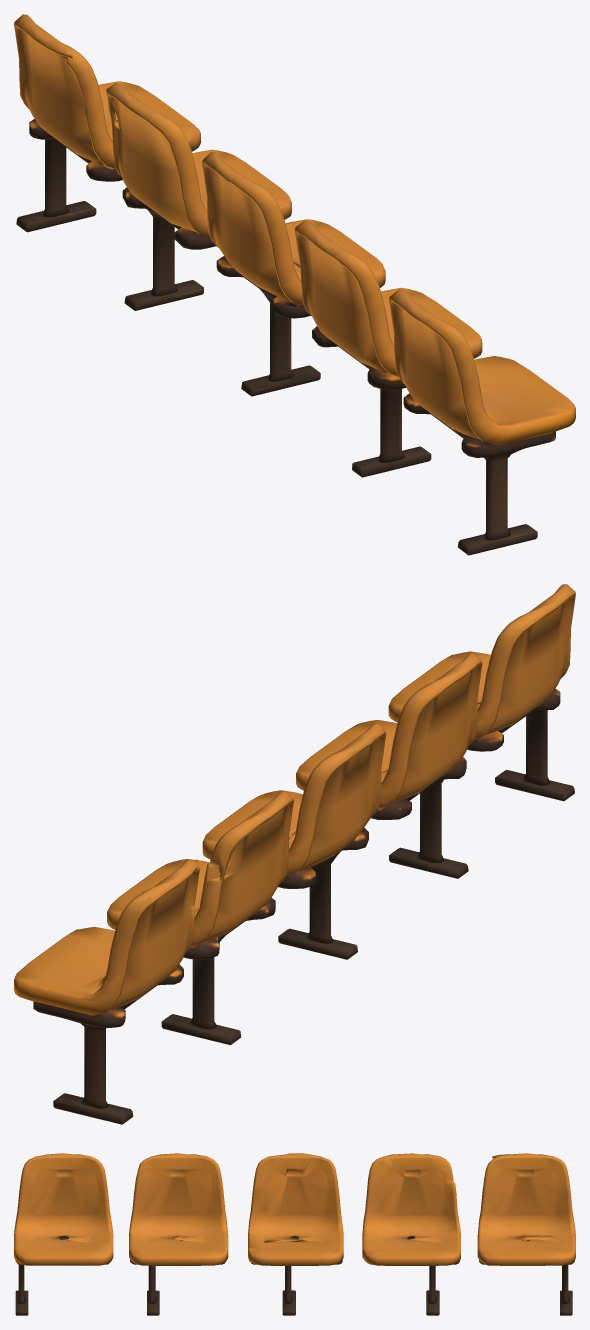
Rendered from Outside__StadiumSeat4.cluster.glb.
3 renders of one model, top to bottom at view 1: azimuth 30°, elevation 25°; view 2: azimuth 150°, elevation 25°; view 3: azimuth 270°, elevation 25°, orthographic. The views are drawn at different scales.
Visible parts, largest first — view 1: StadiumSeat4; view 2: StadiumSeat4; view 3: StadiumSeat4.
Part boxes in pixels (<box>): StadiumSeat4: <box>14,14,575,555</box>; StadiumSeat4: <box>14,584,575,1124</box>; StadiumSeat4: <box>14,1153,575,1315</box>.
Bounding box in the file's own units: 0.3281 × 0.5125 × 1.9.
1 material, 1 textured.
